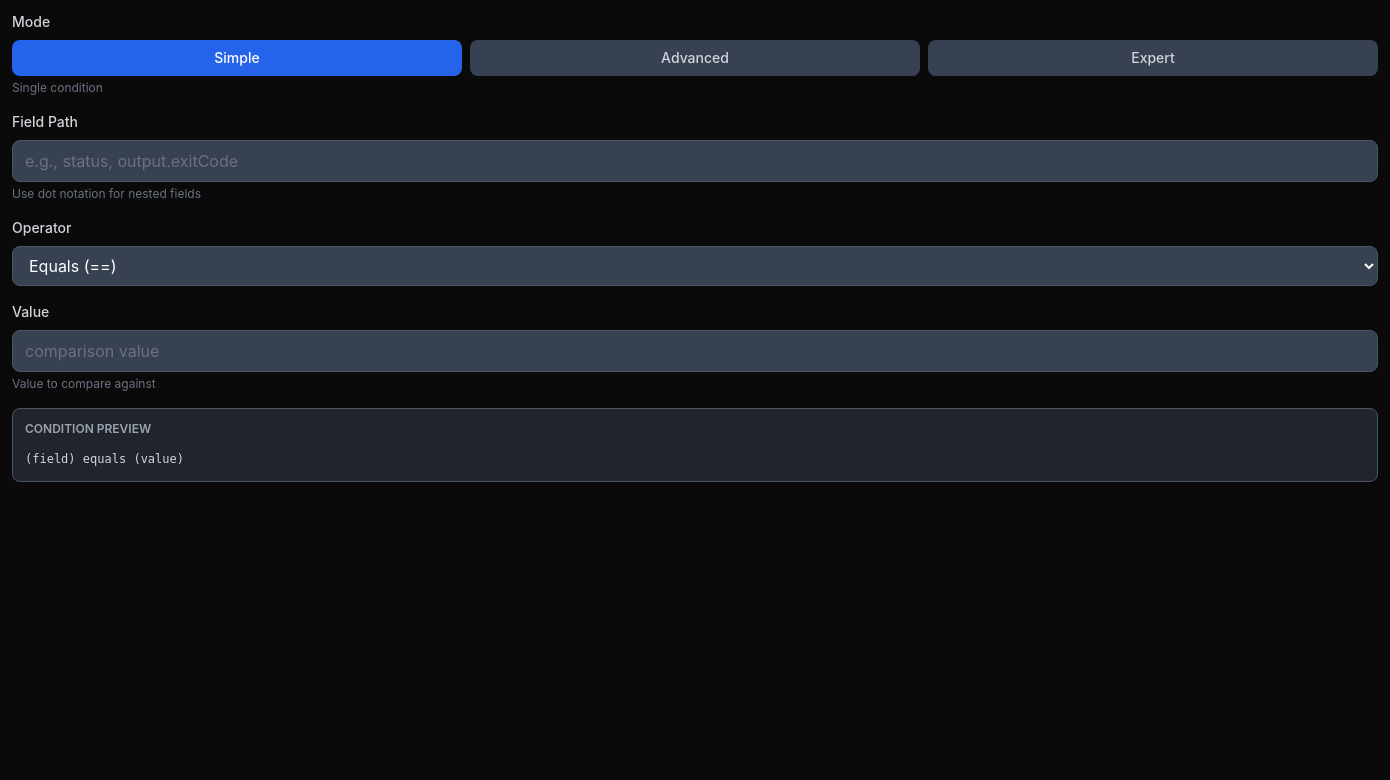
Test case: ConditionalNodeSettings › mode transitions › switches from expert to simple
Click the button "Expert" at x=1153, y=58, box x1=928 y1=40 x2=1378 y2=76
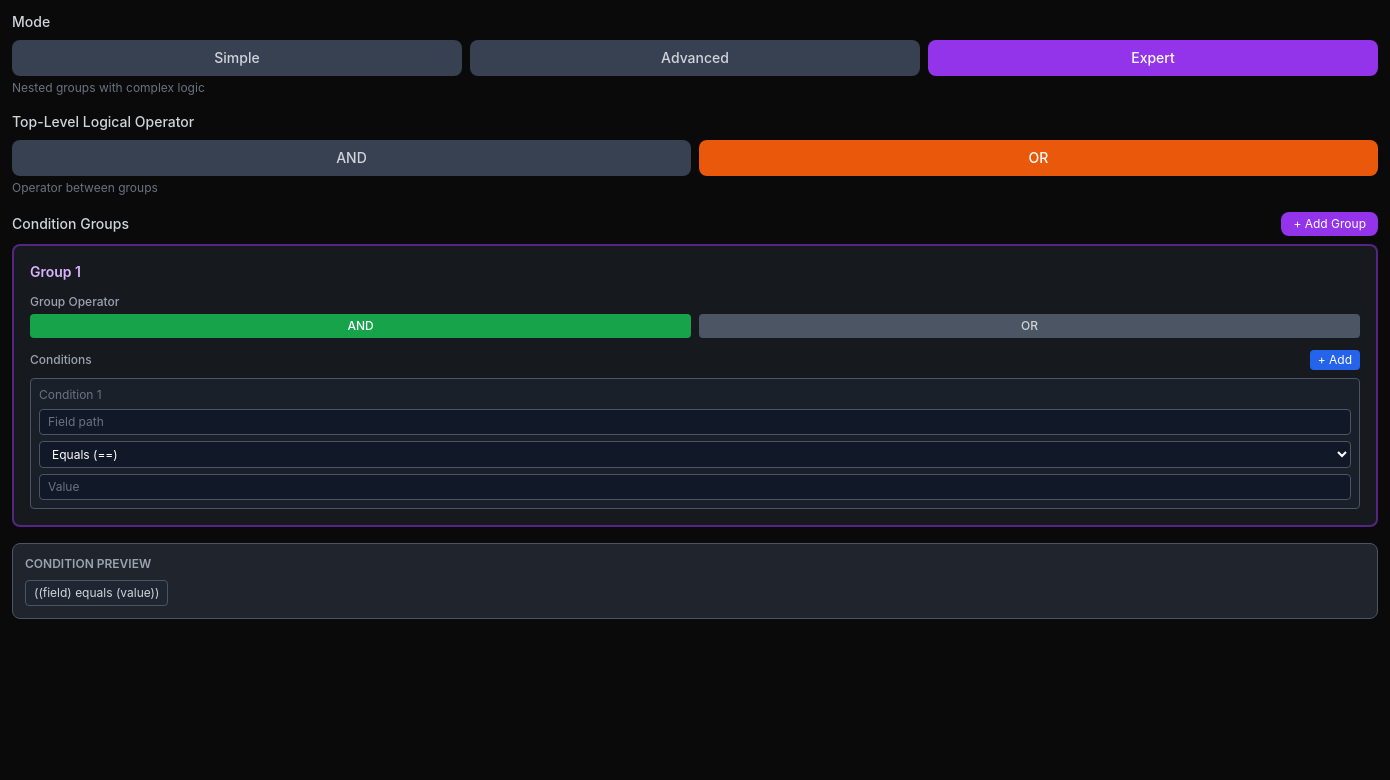
Click the button "Simple" at x=237, y=58, box x1=12 y1=40 x2=462 y2=76
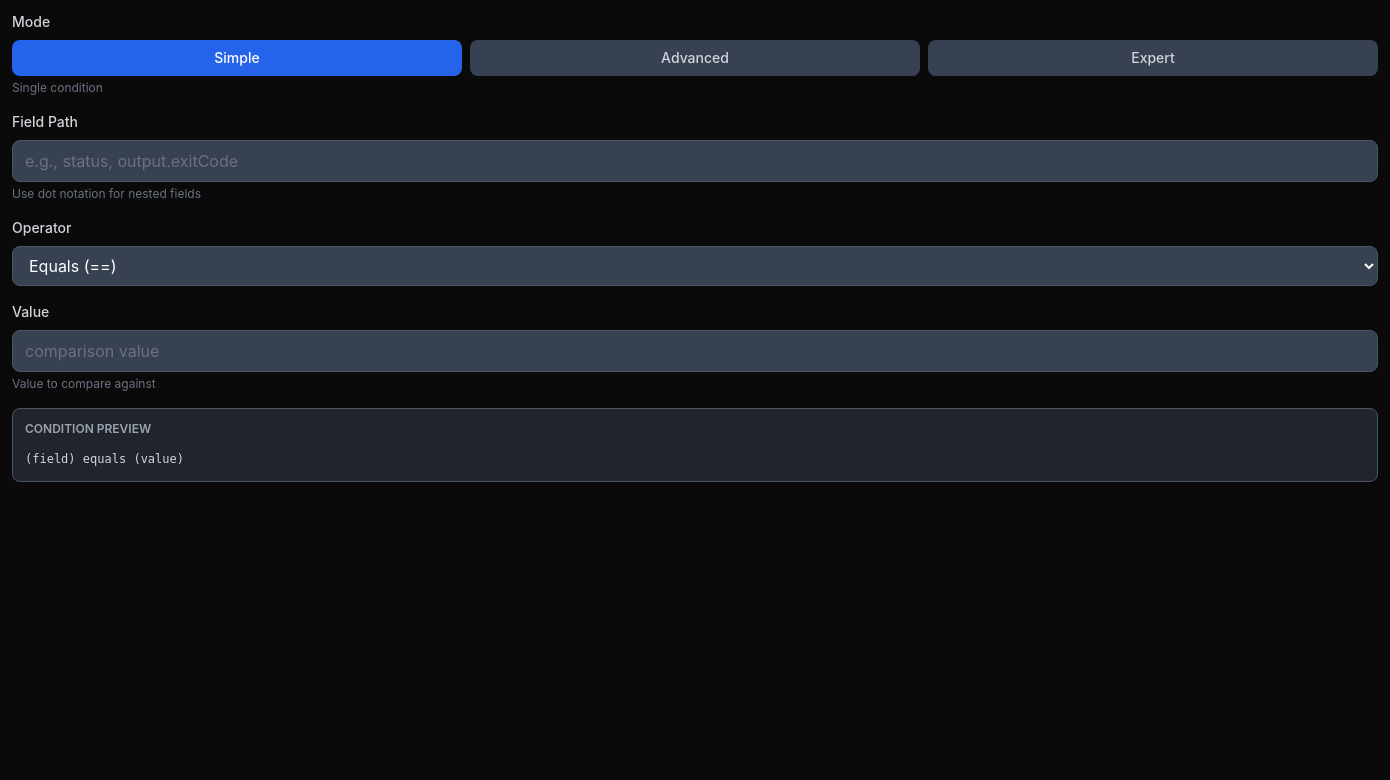
expect the text "Field Path" is shown: met, box x1=12 y1=113 x2=78 y2=130
